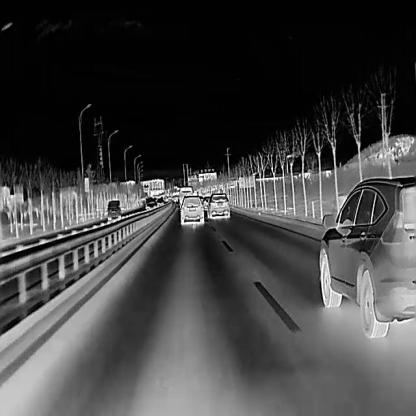bus: (178, 185, 192, 208)
car: (318, 171, 416, 338), (180, 193, 204, 224), (206, 192, 230, 218), (106, 199, 120, 219), (145, 196, 156, 209), (156, 200, 163, 209)
